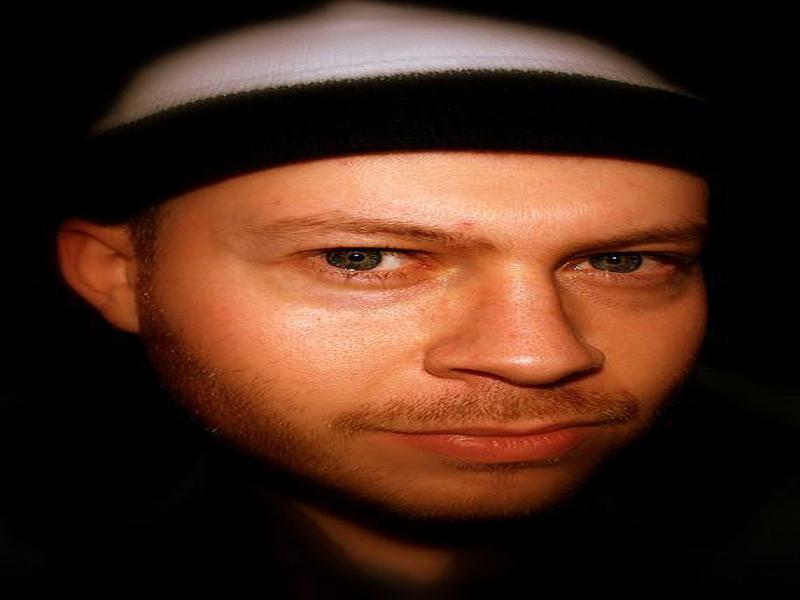person: (49, 8, 736, 579)
